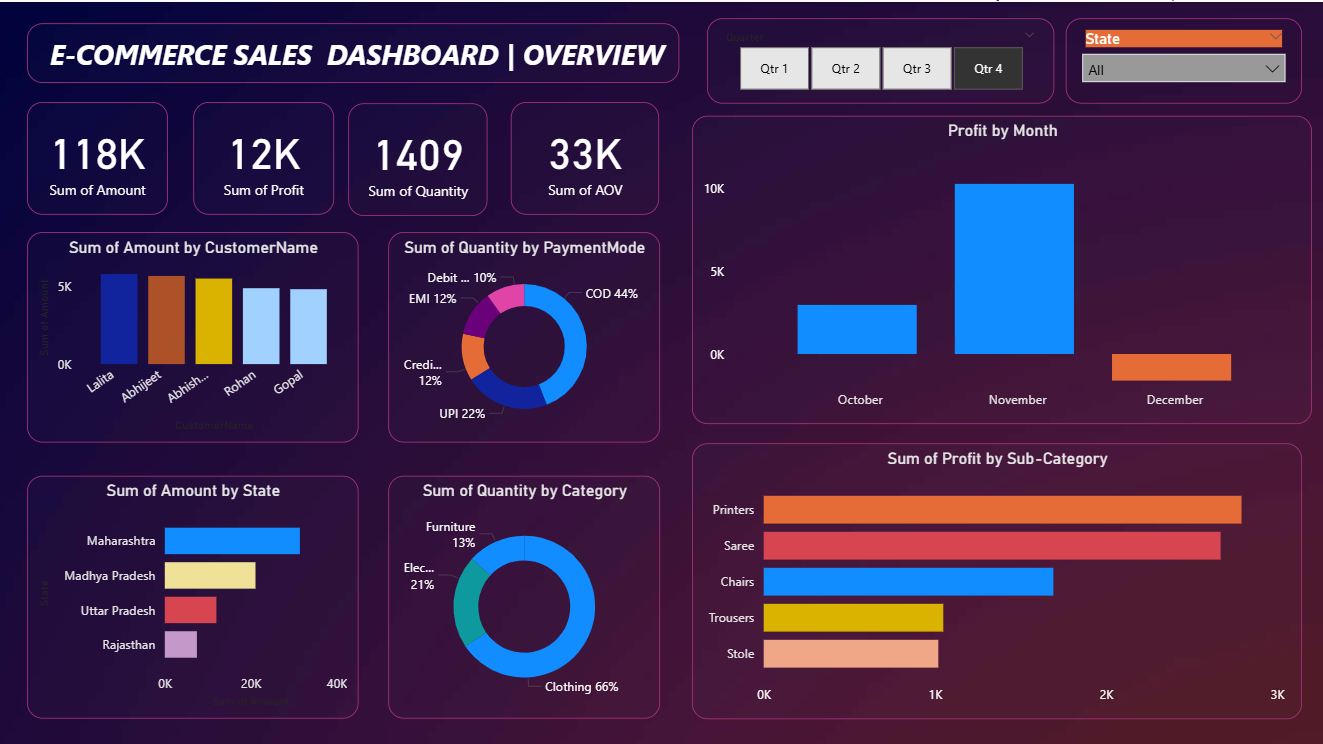

Layout of this report page (visuals, bound fields, positions):
{"tool":"powerbi","page":{"name":"Page 1","canvas":[1280,720],"ordinal":0},"visuals":[{"type":"textbox","box":[28.8,20.6,629.8,57.6],"z":0},{"type":"columnChart","title":" Profit by Month","fields":{"Category":["Orders.Order Date.Variation.Date Hierarchy.Month"],"Y":["Details.Profit"]},"box":[671,109.8,598.3,297.8],"z":1000},{"type":"barChart","fields":{"Category":["Details.Sub-Category"],"Y":["Details.Profit"]},"box":[671,425.4,588.7,266.2],"z":2000},{"type":"donutChart","fields":{"Category":["Details.Category"],"Y":["Details.Quantity"]},"box":[377.4,456.9,262.1,234.6],"z":3000},{"type":"donutChart","fields":{"Category":["Details.PaymentMode","Details.Category"],"Y":["Details.Quantity"]},"box":[377.4,222.3,262.1,203.1],"z":4000},{"type":"card","fields":{"Values":["Details.Amount"]},"box":[28.8,96.1,135.8,108.4],"z":5000},{"type":"card","fields":{"Values":["Details.Profit"]},"box":[189.4,96.1,135.8,108.4],"z":6000},{"type":"card","fields":{"Values":["Details.Quantity"]},"box":[338.9,97.4,134.5,108.4],"z":7000},{"type":"card","fields":{"Values":["Details.AOV"]},"box":[495.8,96.5,143.6,108.6],"z":8000},{"type":"barChart","fields":{"Category":["Orders.State"],"Y":["Details.Amount"]},"box":[28.8,456.9,319.7,234.6],"z":9000},{"type":"columnChart","fields":{"Category":["Orders.CustomerName"],"Y":["Details.Amount"]},"box":[28.8,222.3,319.7,203.1],"z":10000},{"type":"slicer","fields":{"Values":["Orders.State"]},"box":[1031.9,15.1,227.8,82.3],"z":11000},{"type":"slicer","fields":{"Values":["Orders.Order Date.Variation.Date Hierarchy.Quarter"]},"box":[684.7,15.1,334.8,82.3],"z":12000}]}

Visuals, with their boxes in screenshot pixels (x1, y1, x2, y2), scaled from the page's 1280x720 canvas onto the 1323x744 screenshot:
textbox: 30 21 681 81
" Profit by Month" columnChart: 694 113 1312 421
barChart - Details.Sub-Category x Details.Profit: 694 440 1302 715
donutChart - Details.Category x Details.Quantity: 390 472 661 715
donutChart - Details.PaymentMode x Details.Category: 390 230 661 440
card - Details.Amount: 30 99 170 211
card - Details.Profit: 196 99 336 211
card - Details.Quantity: 350 101 489 213
card - Details.AOV: 512 100 661 212
barChart - Orders.State x Details.Amount: 30 472 360 715
columnChart - Orders.CustomerName x Details.Amount: 30 230 360 440
slicer - Orders.State: 1067 16 1302 101
slicer - Orders.Order Date.Variation.Date Hierarchy.Quarter: 708 16 1054 101
